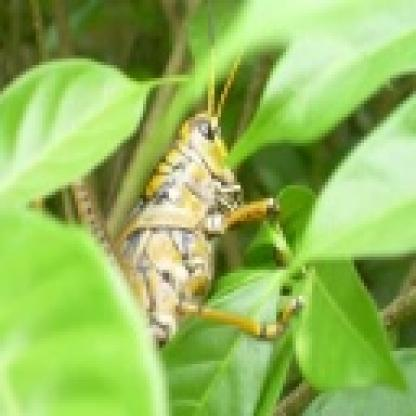grasshopper: (102, 52, 310, 368)
